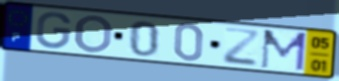0: (171, 22, 205, 63), (127, 19, 162, 58)
G: (34, 11, 73, 50)
M: (258, 28, 309, 73)
O: (72, 13, 115, 54)
Z: (221, 26, 262, 68)
